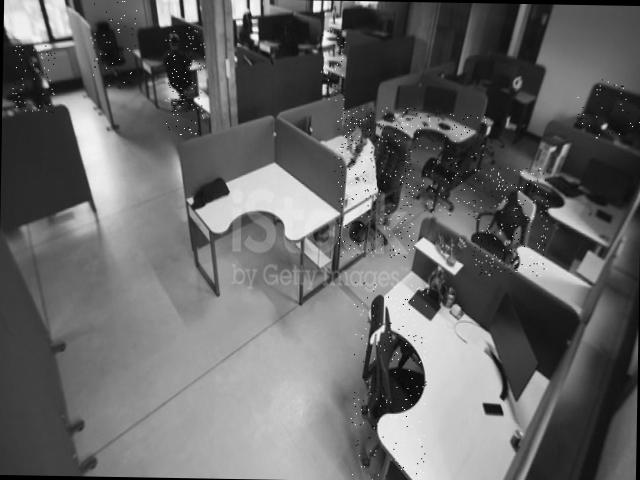empty chair: (349, 281, 428, 480), (472, 167, 550, 276), (414, 114, 491, 216), (90, 0, 137, 87), (12, 40, 56, 112), (320, 28, 346, 100)
occupiedchair: (338, 106, 416, 257), (164, 26, 207, 135), (573, 96, 640, 131)
